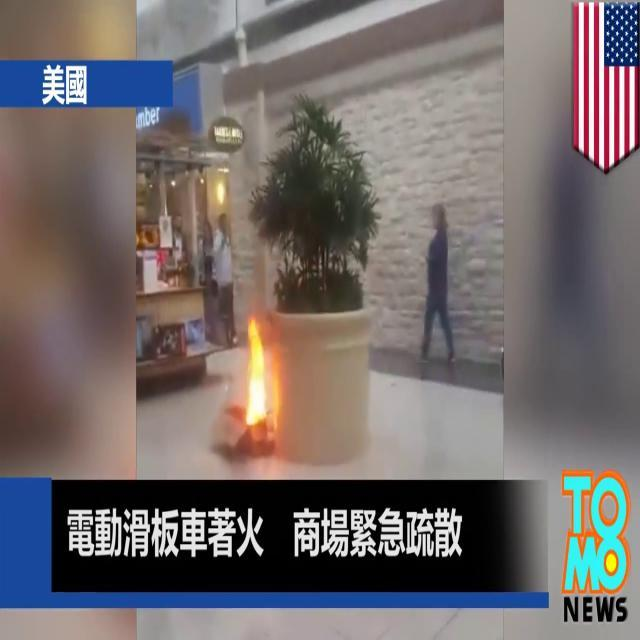Fire: (241, 313, 273, 431)
